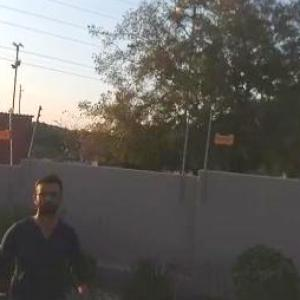follow: (0, 164, 97, 299)
